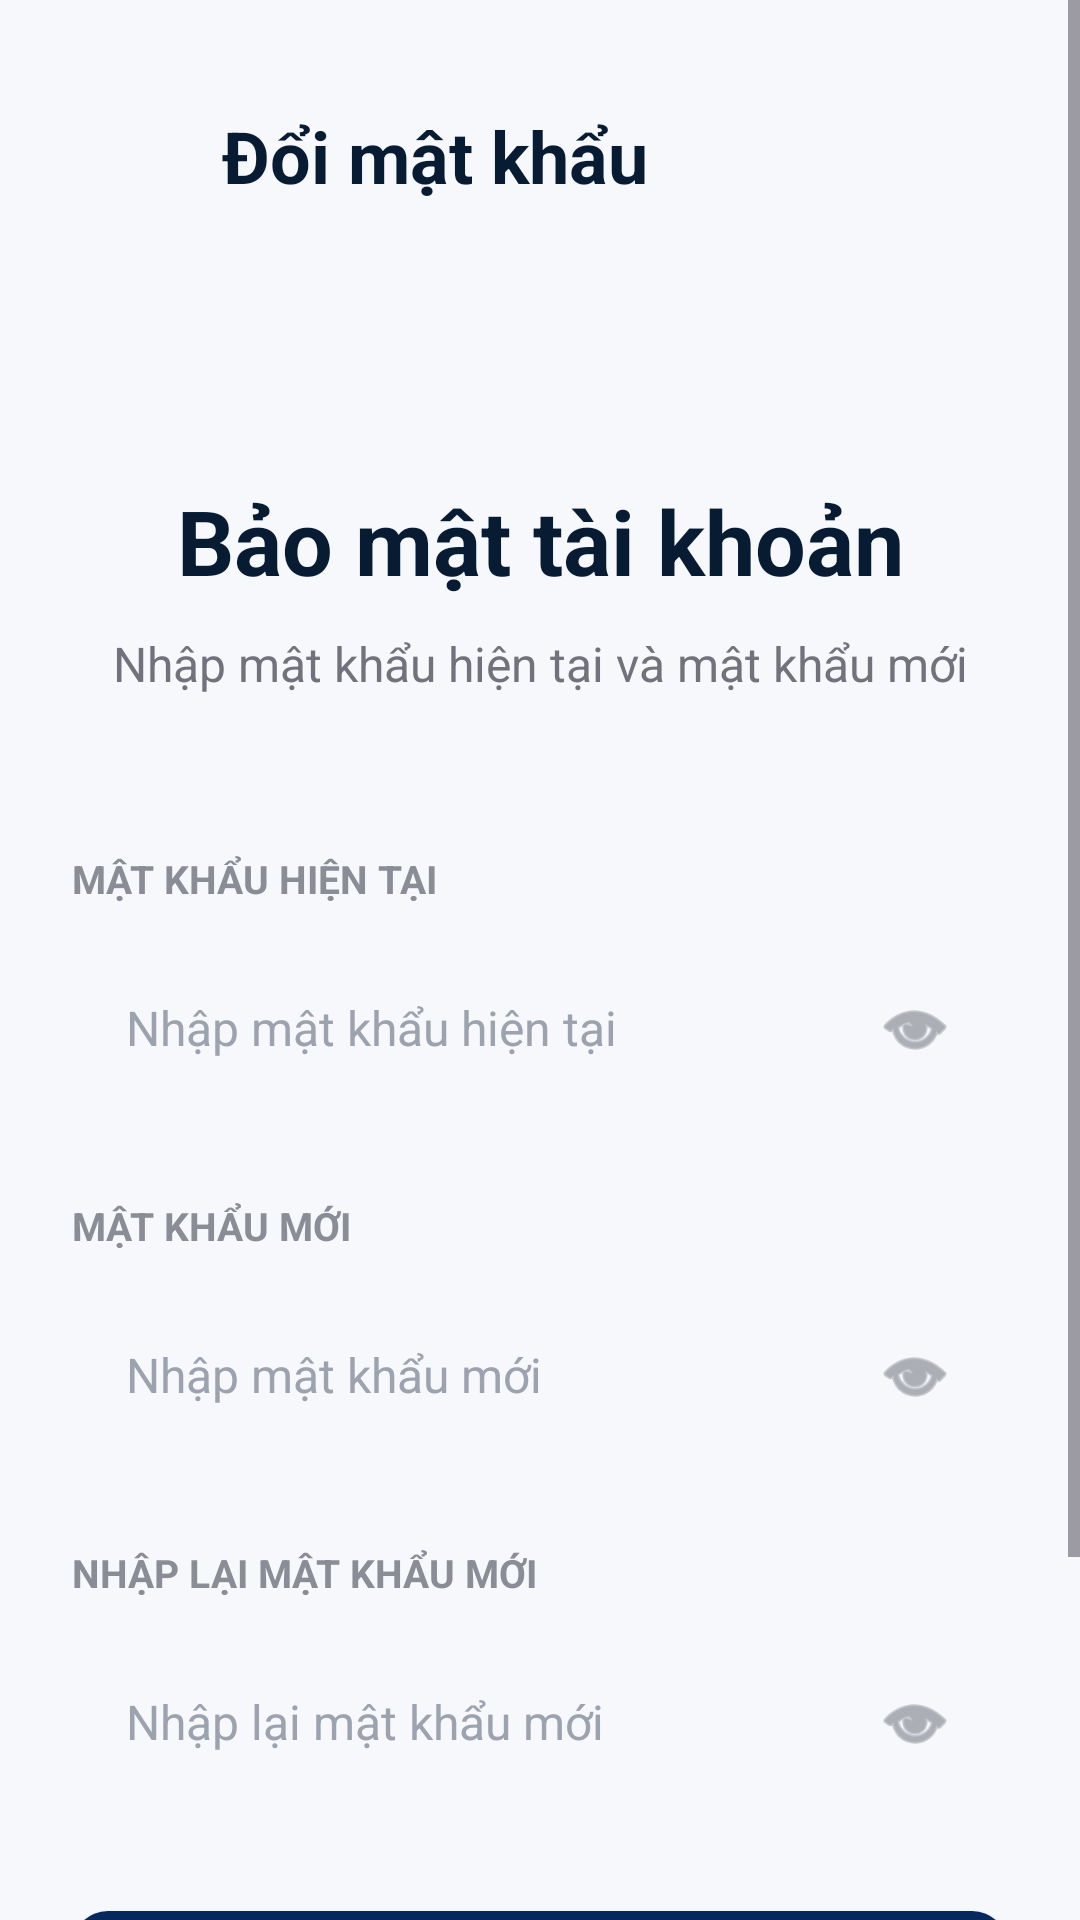

Icon bounding boxes for this 1080x1920 phone screenshot, format [x1,y1,x2,y2]:
Show confirm password: [883,1704,947,1744]
Show current password: [883,1010,947,1050]
Show new password: [883,1357,946,1397]
